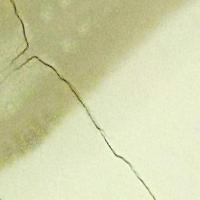crack: (4, 3, 149, 199)
